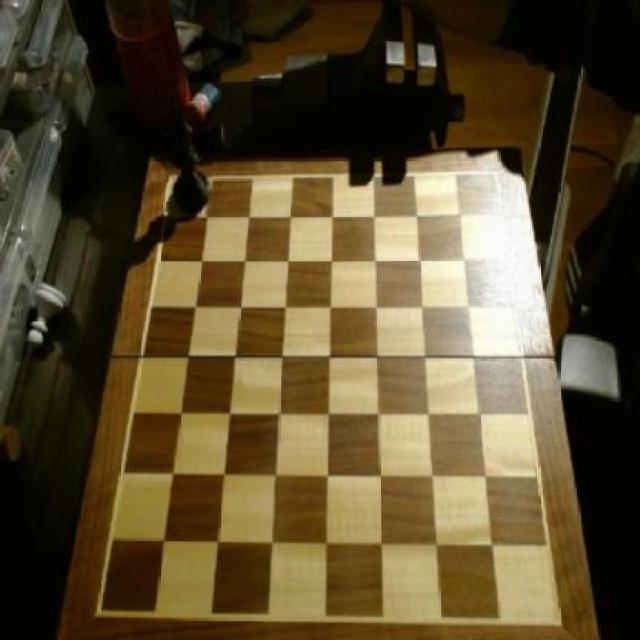black-bishop: (166, 114, 215, 216)
